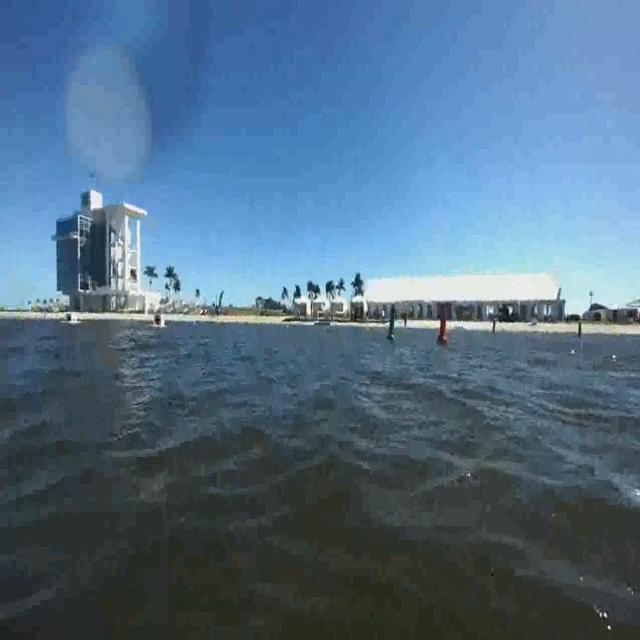green-column-buoy: (386, 304, 398, 341)
red-column-buoy: (436, 307, 451, 347)
